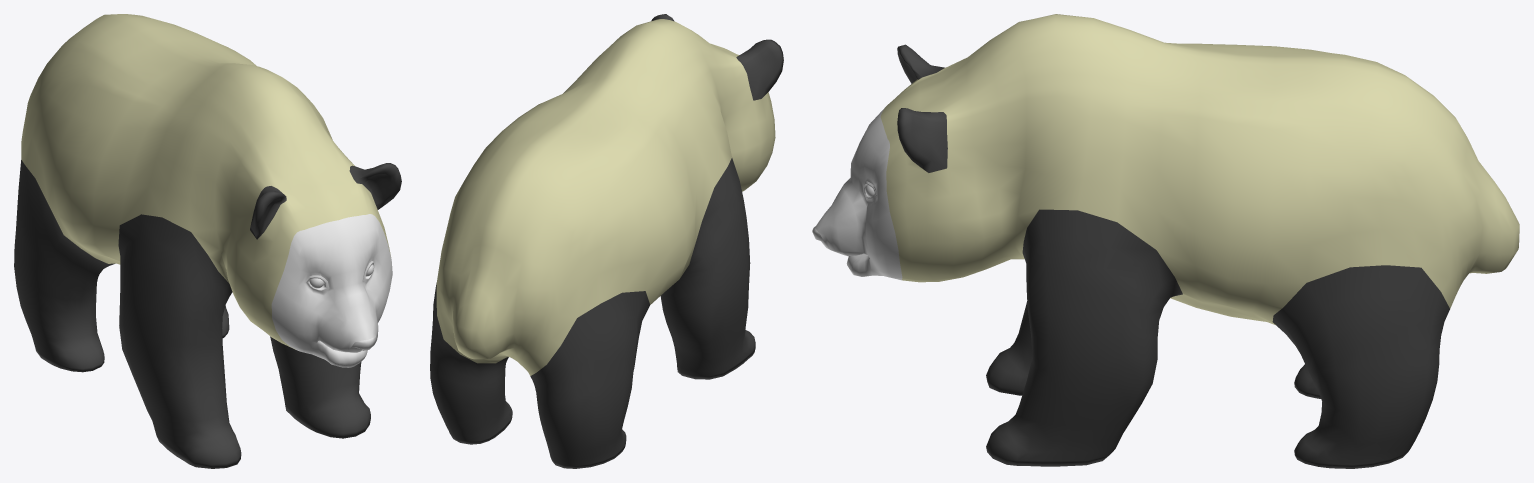
Rendered from Panda_FullUV.fbx.
3 renders of one model, left to right at view 1: azimuth 30°, elevation 25°; view 2: azimuth 150°, elevation 25°; view 3: azimuth 270°, elevation 25°, orthographic. The views are drawn at different scales.
Parts seen in each view (by area): view 1: polySurface3; view 2: polySurface3; view 3: polySurface3.
Part boxes in pixels (x1=…): polySurface3: x1=14, y1=14, x2=401, y2=468; polySurface3: x1=430, y1=14, x2=783, y2=468; polySurface3: x1=812, y1=14, x2=1519, y2=468.
Size of the model in its own units: 2.49 by 3.77 by 6.01.
